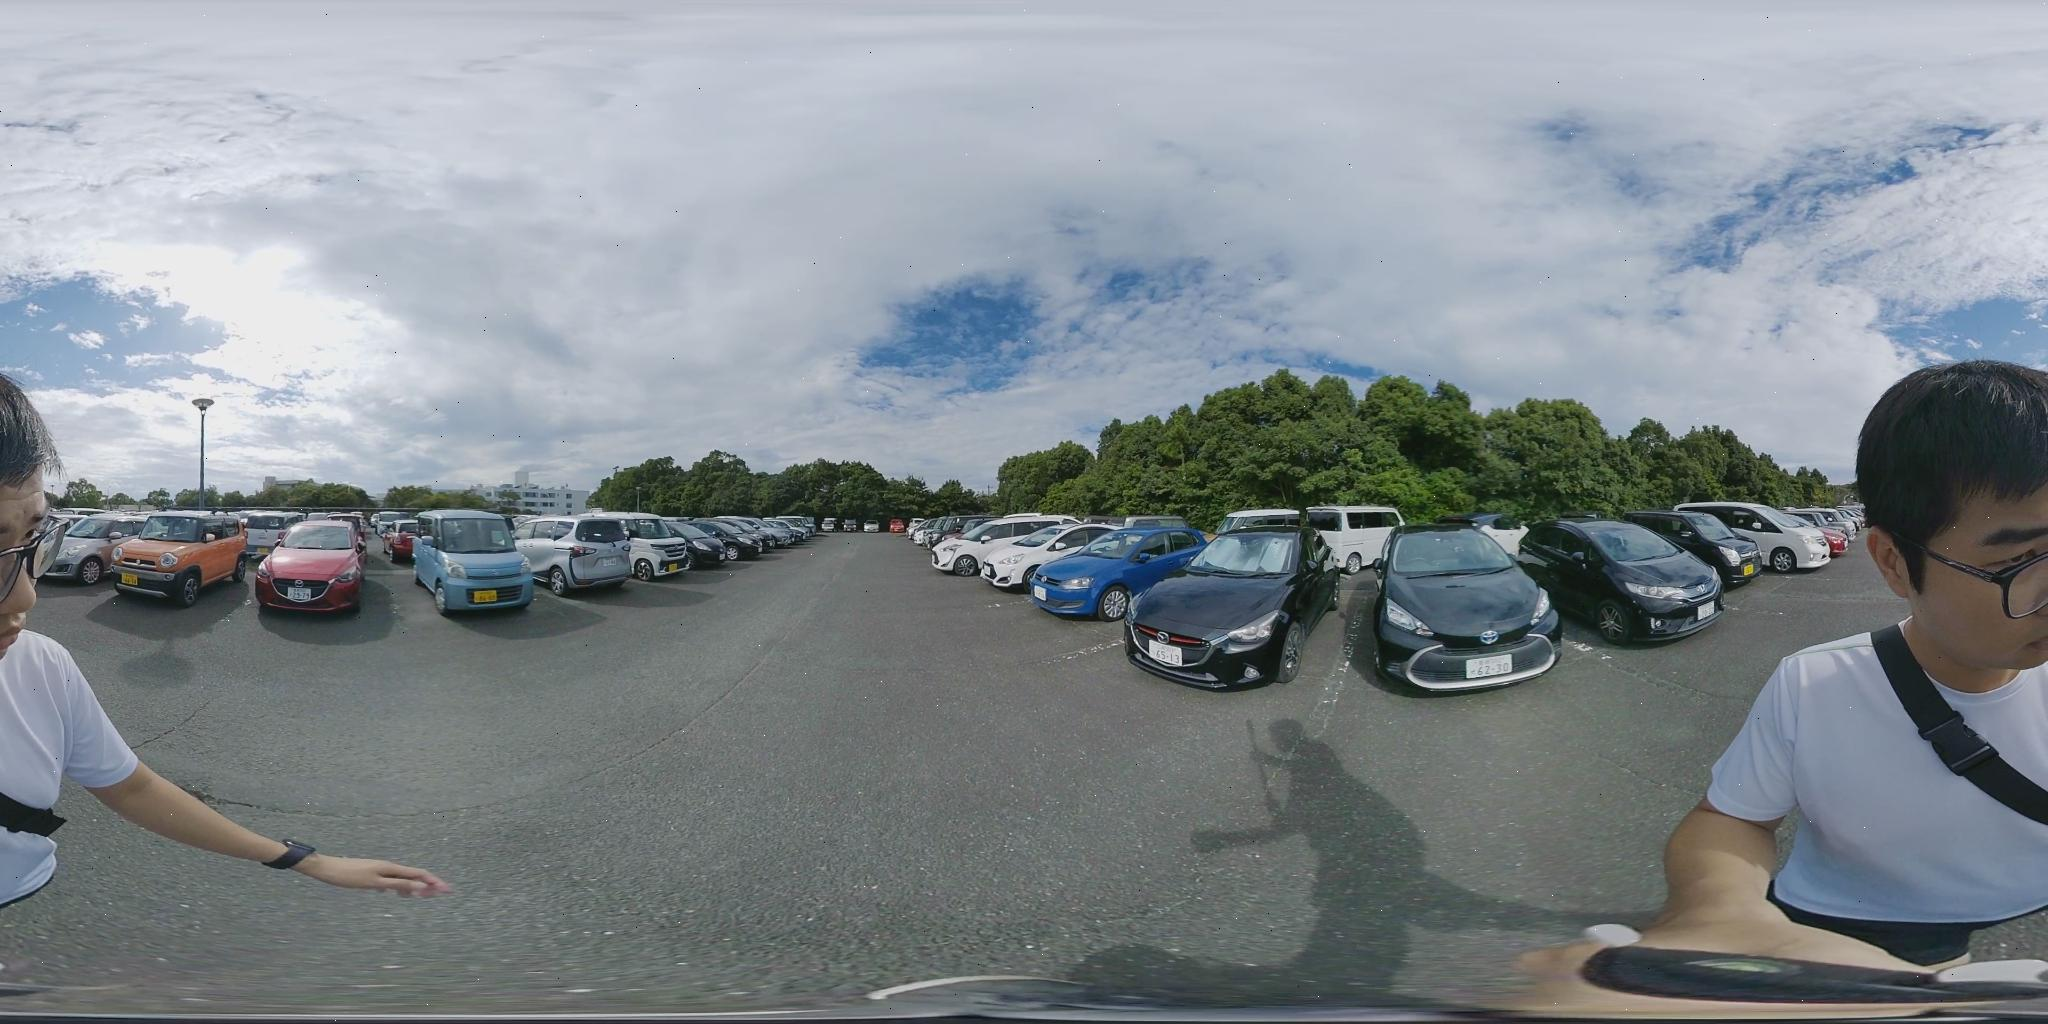car: (1118, 528, 1320, 692), (1373, 522, 1567, 694), (1512, 517, 1727, 649), (1021, 528, 1209, 623), (86, 519, 256, 603), (1631, 505, 1832, 576), (940, 519, 1113, 585), (415, 511, 526, 611), (517, 517, 654, 593), (552, 515, 701, 580), (260, 520, 360, 614), (33, 513, 152, 579), (1309, 504, 1407, 569), (1785, 509, 1865, 555)
